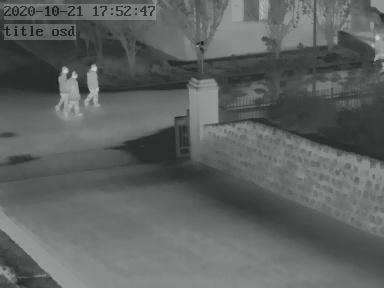person: (65, 71, 82, 117), (53, 64, 69, 112), (85, 64, 101, 110)
